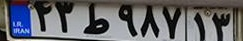character: (81, 3, 113, 41), (140, 1, 161, 40), (161, 3, 182, 41), (117, 1, 138, 38), (210, 8, 233, 41), (32, 1, 53, 37), (54, 1, 76, 35), (191, 11, 209, 41)
